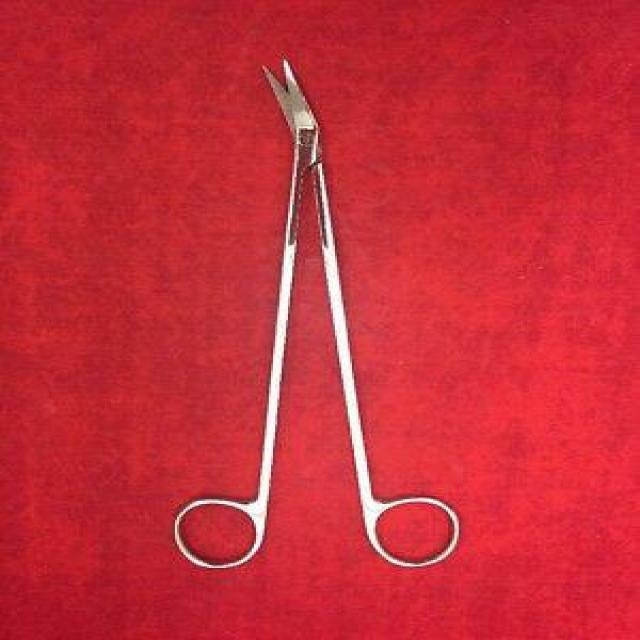Potts: (168, 54, 466, 576)
